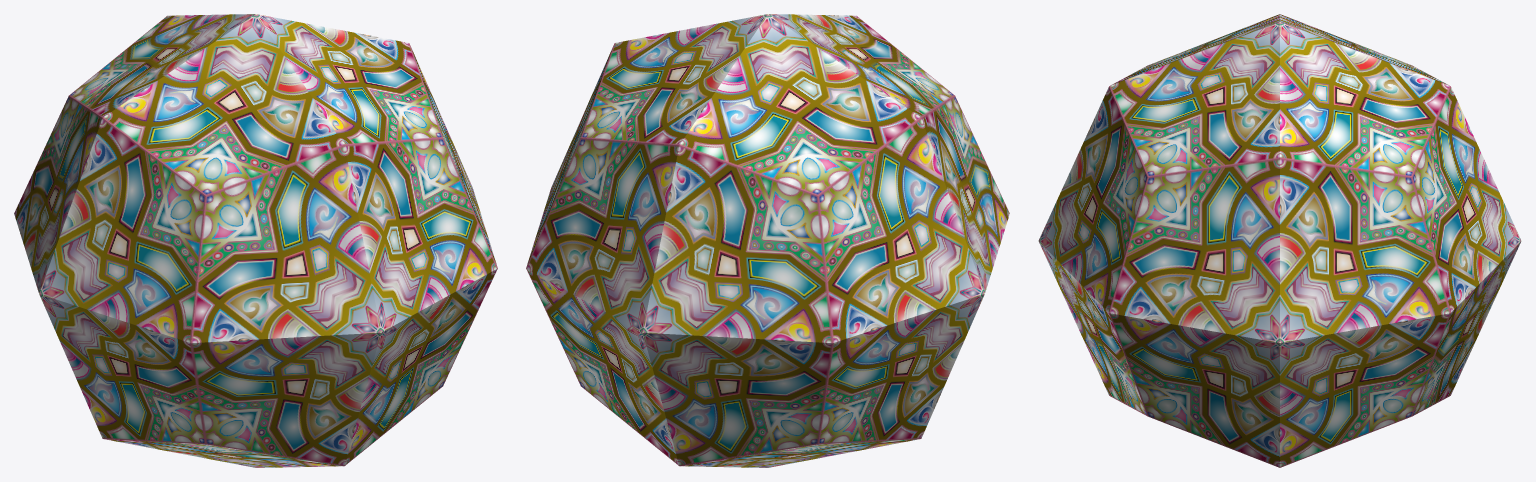
The model's file is 6DeltoidalIcositetrahedron.obj.
3 views of the same model, side by side, from view 1: azimuth 30°, elevation 25°; view 2: azimuth 150°, elevation 25°; view 3: azimuth 270°, elevation 25° (orthographic). The views are drawn at different scales.
Bounding box in the file's own units: 2.83 × 2.83 × 2.83.
Materials: 1 (1 with a texture image).
